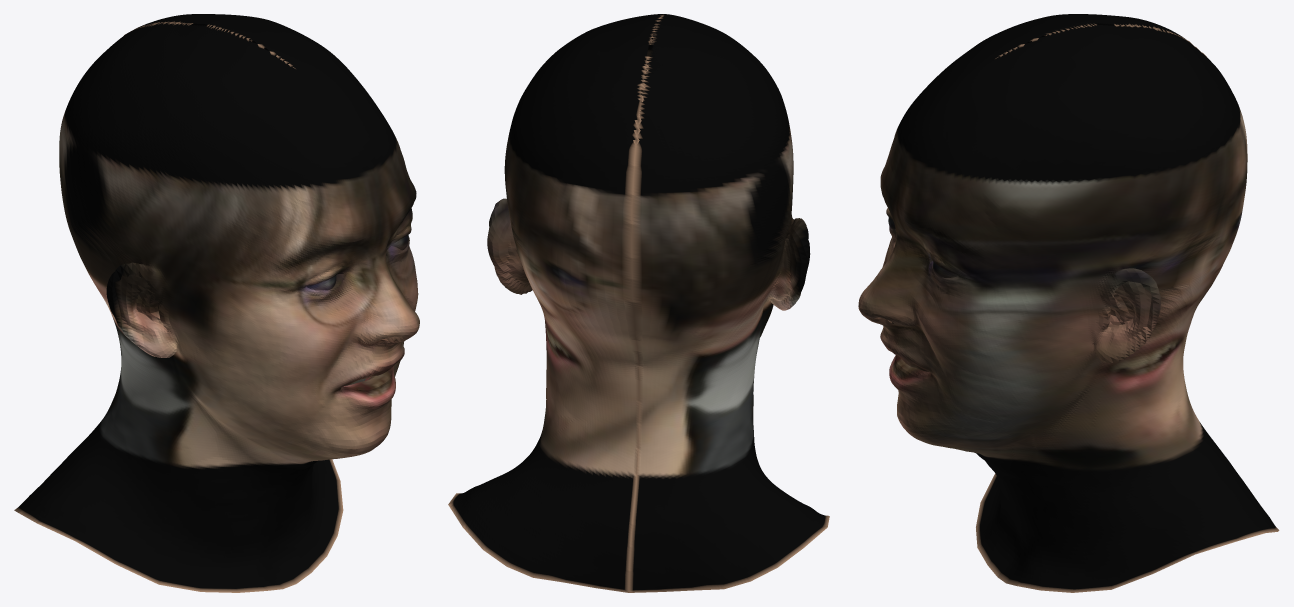
File: mesh_coarse_detail.obj
The picture shows the model from 3 angles, left to right: view 1: azimuth 30°, elevation 25°; view 2: azimuth 150°, elevation 25°; view 3: azimuth 270°, elevation 25°; orthographic projection.
Bounding box in the file's own units: 0.2042 × 0.3214 × 0.2296.
